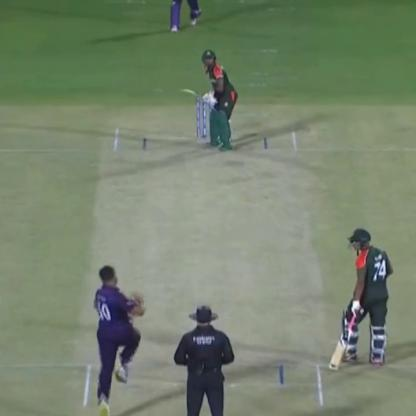bat: (329, 287, 358, 368), (172, 82, 216, 114)
pitch: (84, 122, 334, 410)
